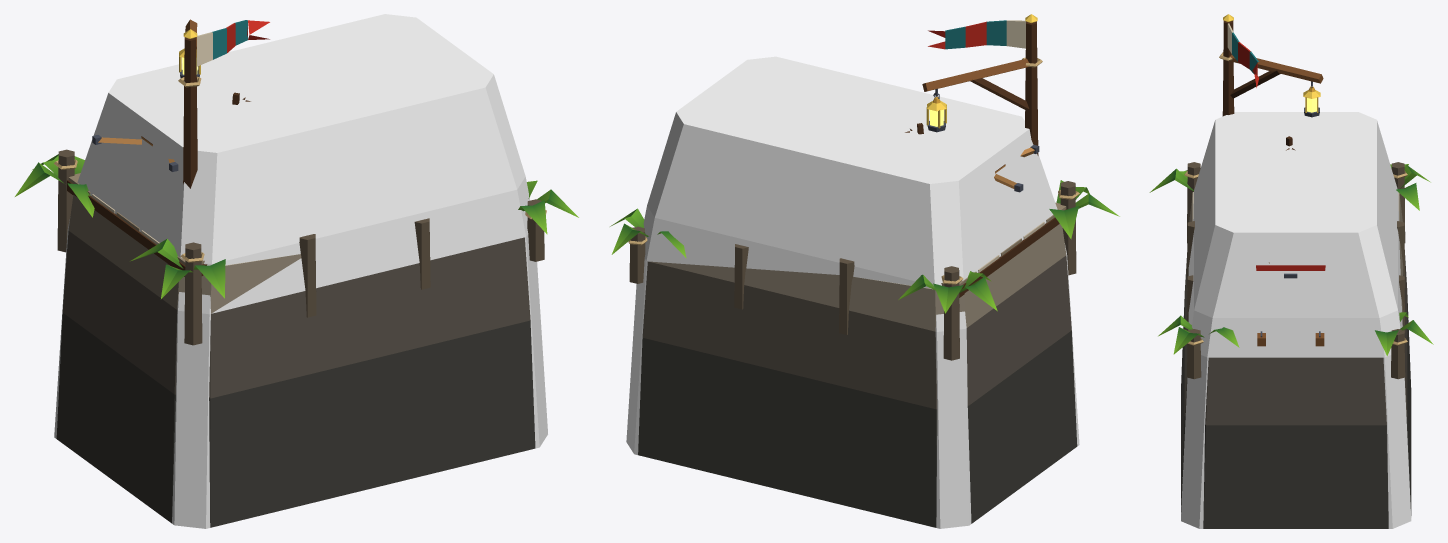
Rendered from coastal_boatbuilder_slipway_winch.glb.
The picture shows the model from 3 angles, left to right: view 1: azimuth 30°, elevation 25°; view 2: azimuth 150°, elevation 25°; view 3: azimuth 270°, elevation 25°; orthographic projection. The views are drawn at different scales.
Visible parts, largest first — view 1: coastal_boatbuilder_slipway_winch, col_boatslipway_base; view 2: coastal_boatbuilder_slipway_winch, col_boatslipway_base; view 3: col_boatslipway_base, coastal_boatbuilder_slipway_winch.
Part boxes in pixels (left/top/right/bottom): coastal_boatbuilder_slipway_winch: left=15, top=19, right=578, bottom=527; col_boatslipway_base: left=54, top=14, right=547, bottom=528; coastal_boatbuilder_slipway_winch: left=610, top=14, right=1119, bottom=527; col_boatslipway_base: left=626, top=56, right=1079, bottom=528; col_boatslipway_base: left=1181, top=112, right=1411, bottom=528; coastal_boatbuilder_slipway_winch: left=1149, top=14, right=1433, bottom=528.
Size of the model in its own units: 6.06 by 6.36 by 4.3.
